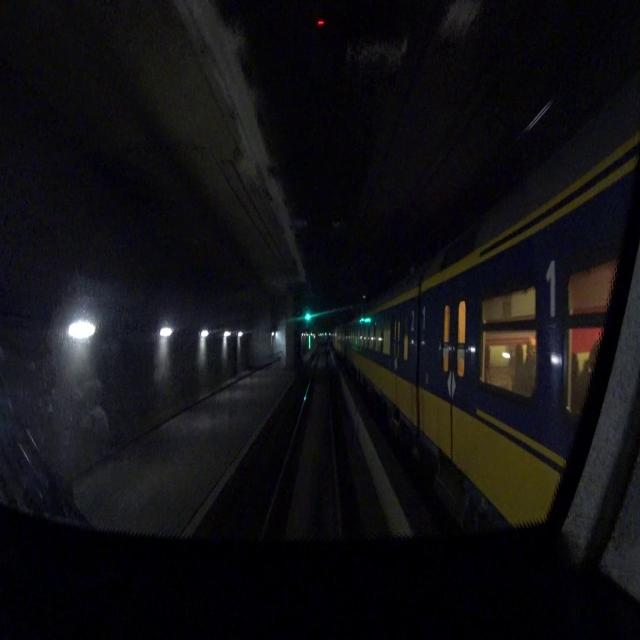rail-track: (265, 340, 338, 539)
